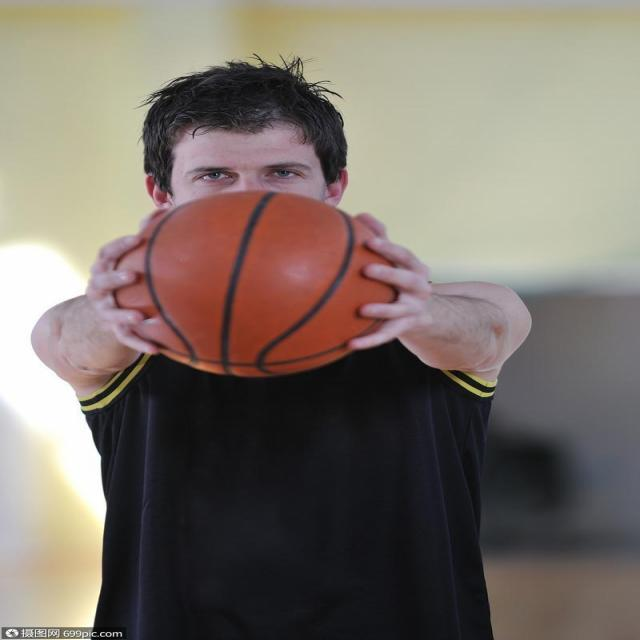rim: (118, 194, 388, 372)
